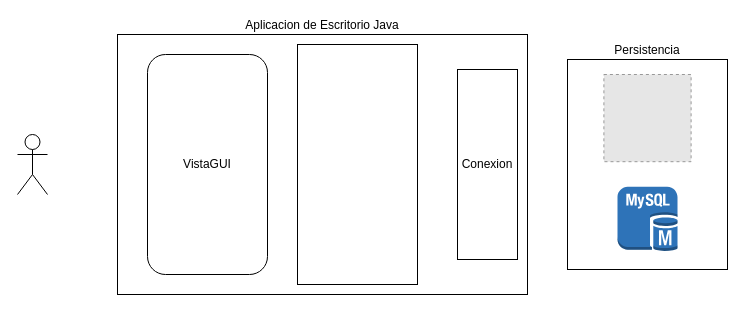
Some shapes in this 745 by 312 pixel diagram are drawn without their labels. Grey dashed boxes stand in for pictures. Here are the shapes that lost their labels. From the top down, the centre of each, then its label:
At [32,164]: "Actor".
At [357,164]: "Controlador".
